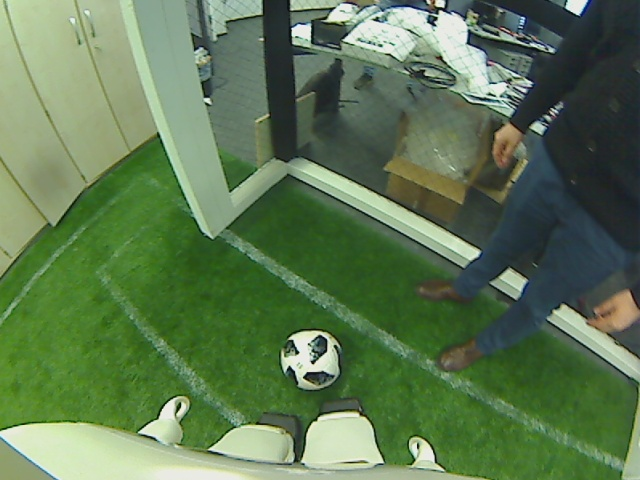ball: (278, 325, 341, 392)
